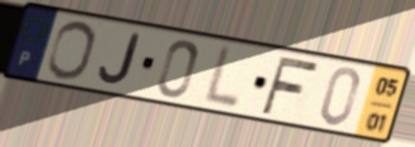0: (317, 65, 363, 129), (156, 38, 202, 99)
F: (258, 53, 323, 116)
J: (96, 31, 143, 87)
L: (199, 43, 244, 113)
O: (44, 19, 98, 83)
